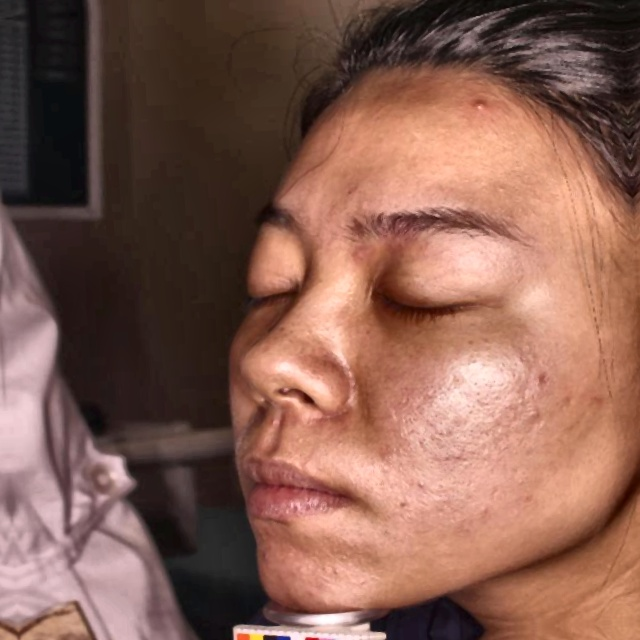comedone: (461, 95, 492, 121)
